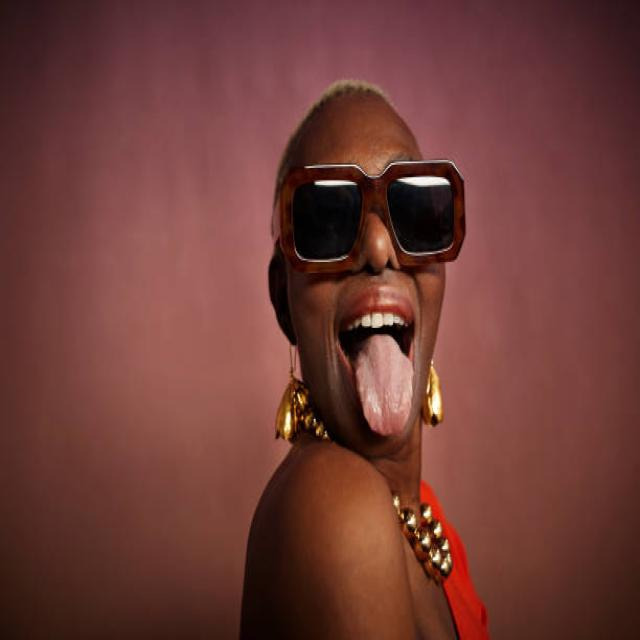tongue: (353, 334, 420, 441)
